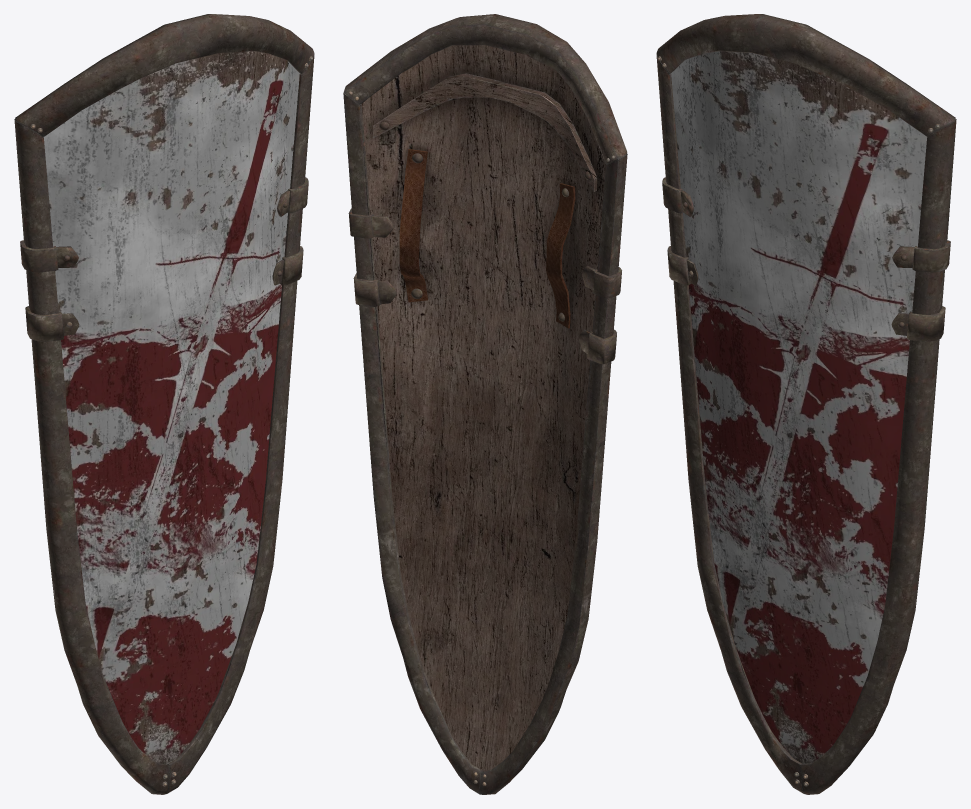
File: kite_shield.glb
The picture shows the model from 3 angles, left to right: view 1: azimuth 30°, elevation 25°; view 2: azimuth 150°, elevation 25°; view 3: azimuth 330°, elevation 25°; orthographic projection. The views are drawn at different scales.
Visible parts, largest first — view 1: kite_shield_body, kite_shield_metal_trim, kite_shield_clamps_and_bolts; view 2: kite_shield_body, kite_shield_metal_trim, kite_shield_clamps_and_bolts; view 3: kite_shield_body, kite_shield_metal_trim, kite_shield_clamps_and_bolts.
Part boxes in pixels (bbox=[...]): kite_shield_body: bbox=[43, 51, 299, 764]; kite_shield_metal_trim: bbox=[14, 14, 314, 794]; kite_shield_clamps_and_bolts: bbox=[20, 56, 312, 786]; kite_shield_body: bbox=[361, 45, 606, 770]; kite_shield_metal_trim: bbox=[343, 14, 627, 794]; kite_shield_clamps_and_bolts: bbox=[348, 91, 621, 785]; kite_shield_body: bbox=[671, 51, 927, 764]; kite_shield_metal_trim: bbox=[656, 14, 956, 794]; kite_shield_clamps_and_bolts: bbox=[658, 56, 950, 786].
Size of the model in its own units: 0.5432 by 1.39 by 0.1347.
Materials: 2 (2 with a texture image).
